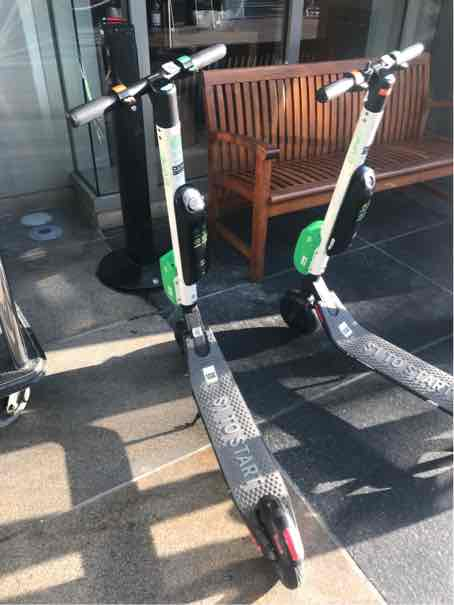scooter: (58, 34, 357, 594)
